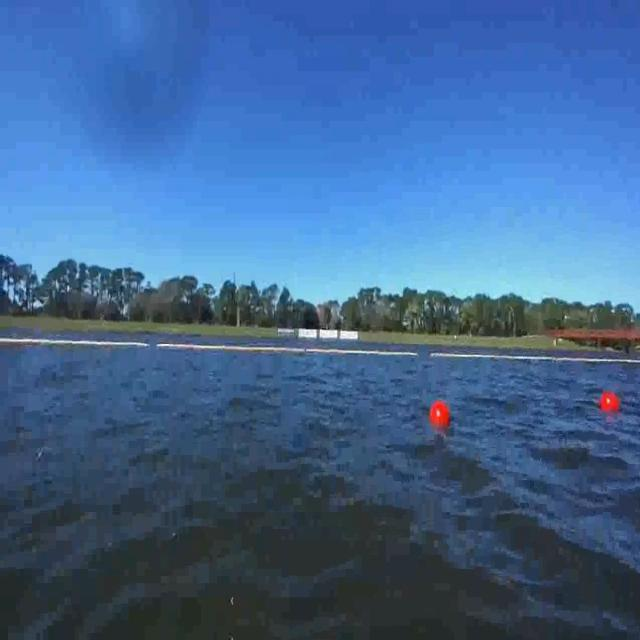red-buoy: (430, 403, 449, 430), (601, 393, 621, 416)
